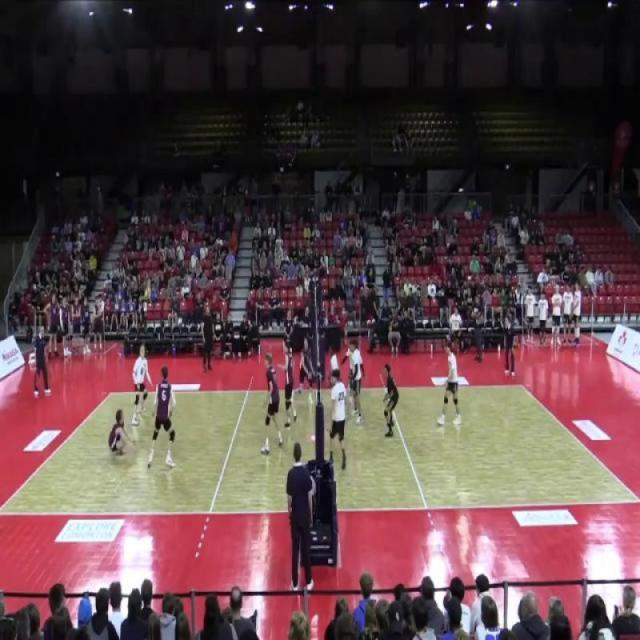volleyball: (144, 283, 151, 300)
